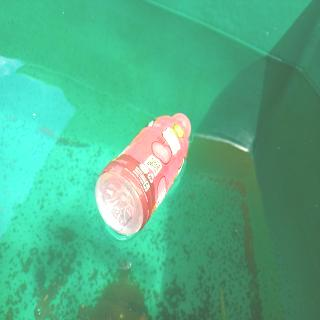bottle: (95, 111, 192, 236)
